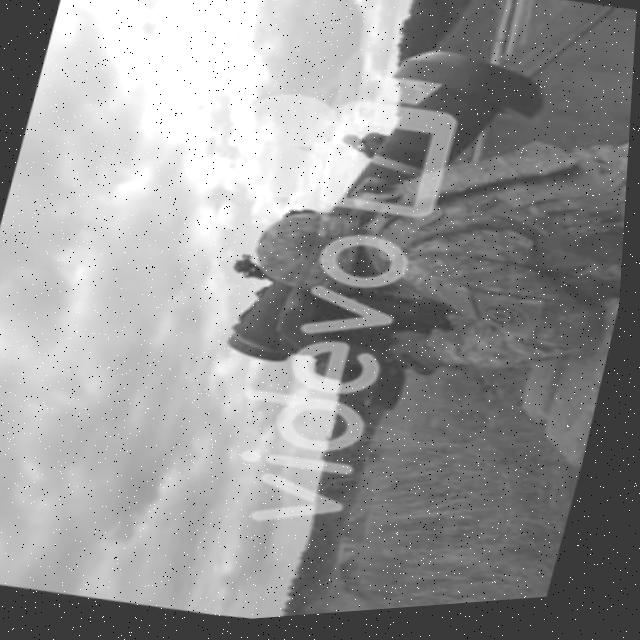rocket: (339, 33, 561, 254)
